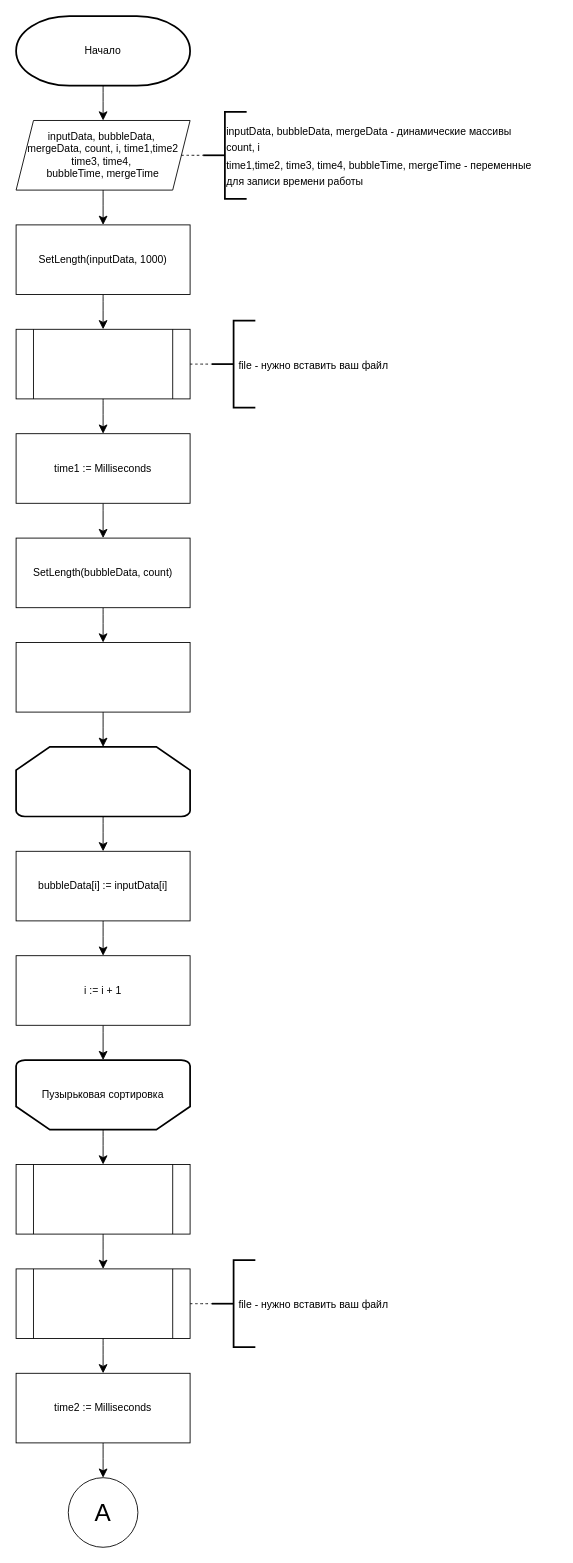
Some shapes in this 573 by 1563 pixel diagram are drawn without their labels. The shapes that lost their labels are listed below. From the top down, each one's box as (x1, y1, x2, y2) in pixels, then its label:
(15, 328, 190, 399): ReadDataFromFile('file', inputData, count)
(15, 642, 190, 712): i := 0
(15, 746, 191, 817): Пузырьковая сортировка i > count - 1
(15, 1164, 190, 1234): BubbleSort(bubbleData, CompareAscending)
(15, 1268, 190, 1338): WriteDataToFile('file', bubbleData, count)
